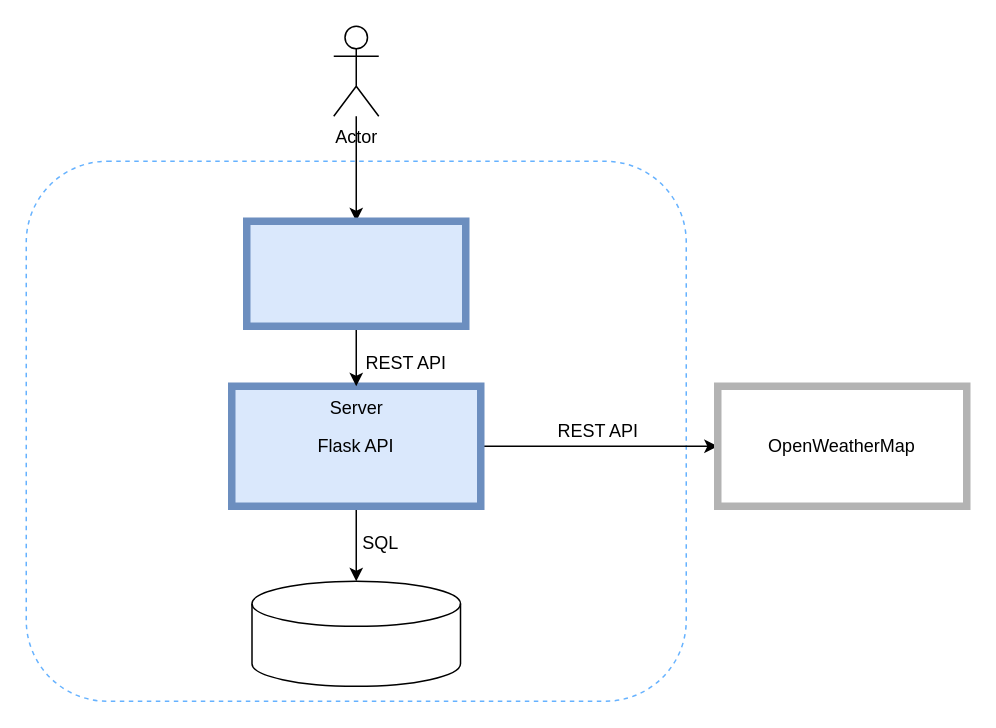
Some shapes in this 996 by 728 pixel diagram are drawn without their labels. The centre of each missing label's shape, as x and y in pixels:
PostgreSQL: (x=355, y=633)
React SPA: (x=355, y=273)
